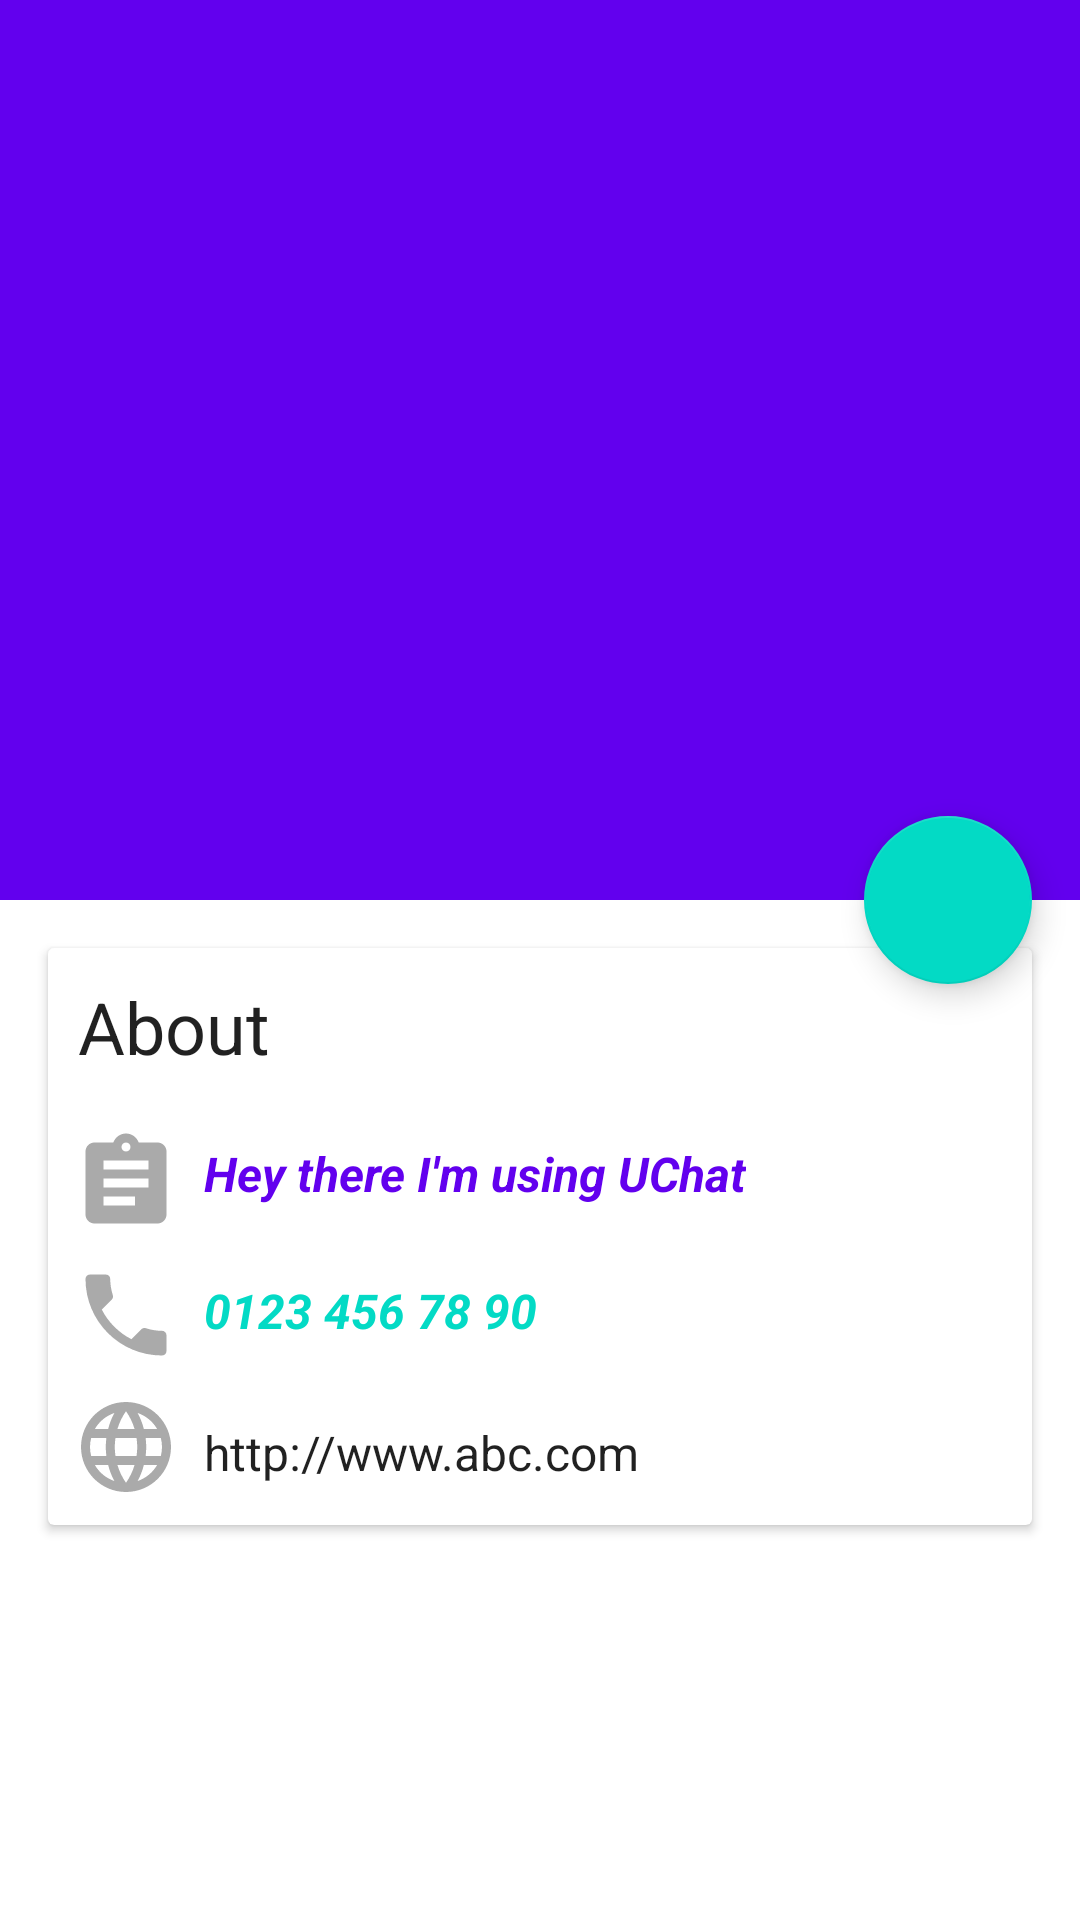

Named icons in this screenshot (1080 x 1920) and their centers, (x=x, y=y):
assignment: (x=126, y=1178)
language: (x=126, y=1447)
phone: (x=126, y=1315)
